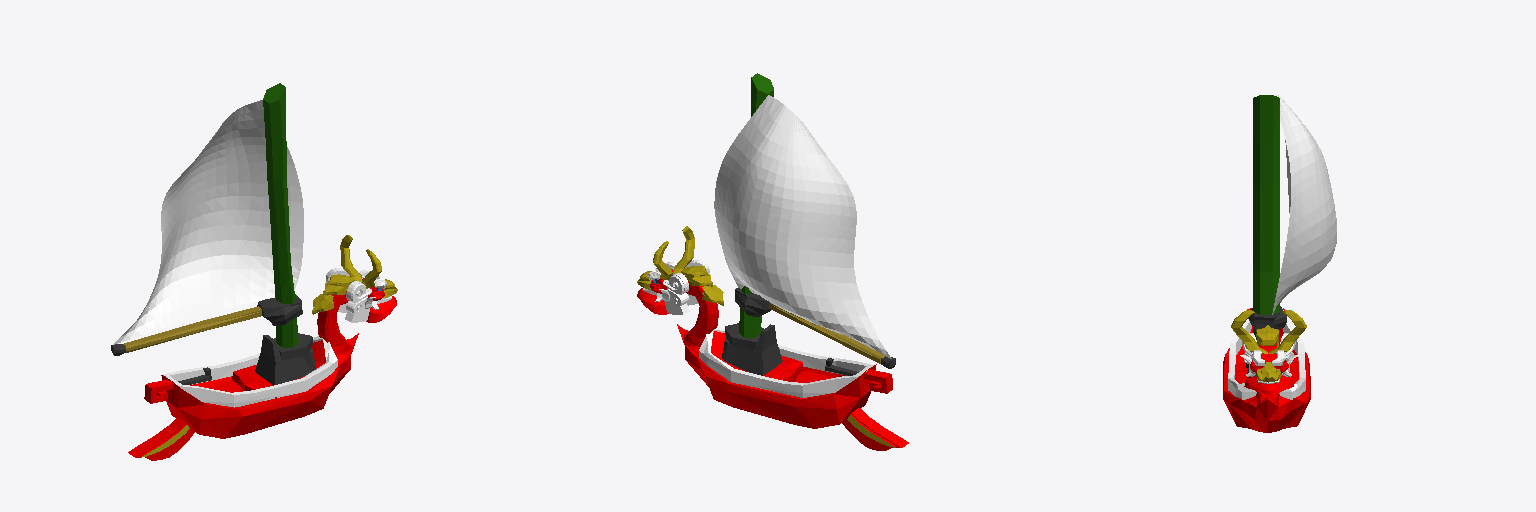
3 renders of one model, left to right at view 1: azimuth 30°, elevation 25°; view 2: azimuth 150°, elevation 25°; view 3: azimuth 270°, elevation 25°, orthographic.
Visible parts, largest first — view 1: Box001; view 2: Box001; view 3: Box001.
Boxes of the visible parts, x1,y1,x2,y2 form: Box001: [111, 83, 397, 460]; Box001: [637, 73, 908, 450]; Box001: [1223, 95, 1336, 432].
Bounding box in the file's own units: 288 × 349 × 106.
1 materials, 1 textured.